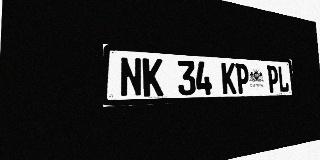3: (177, 60, 196, 96)
4: (195, 61, 212, 95)
K: (142, 58, 163, 97), (221, 62, 236, 94)
L: (277, 66, 289, 92)
N: (120, 57, 142, 97)
P: (235, 63, 250, 94), (267, 65, 279, 93)
